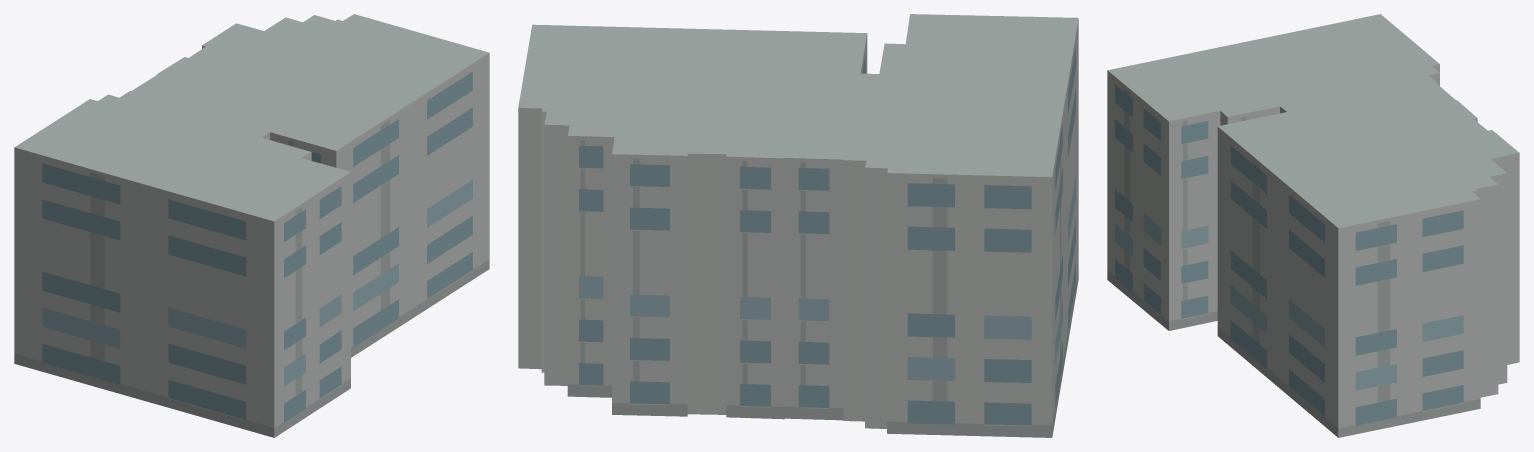
The model's file is survey-upis-32835301.glb.
3 views of the same model, side by side, from view 1: azimuth 30°, elevation 25°; view 2: azimuth 150°, elevation 25°; view 3: azimuth 270°, elevation 25° (orthographic). The views are drawn at different scales.
Visible parts, largest first — view 1: survey-upis-32835301.tmp; view 2: survey-upis-32835301.tmp; view 3: survey-upis-32835301.tmp.
Boxes of the visible parts, x1=… form: survey-upis-32835301.tmp: x1=14, y1=14, x2=489, y2=437; survey-upis-32835301.tmp: x1=518, y1=14, x2=1078, y2=437; survey-upis-32835301.tmp: x1=1107, y1=14, x2=1519, y2=437.
Bounding box in the file's own units: 36.63 × 16.7 × 29.76.
